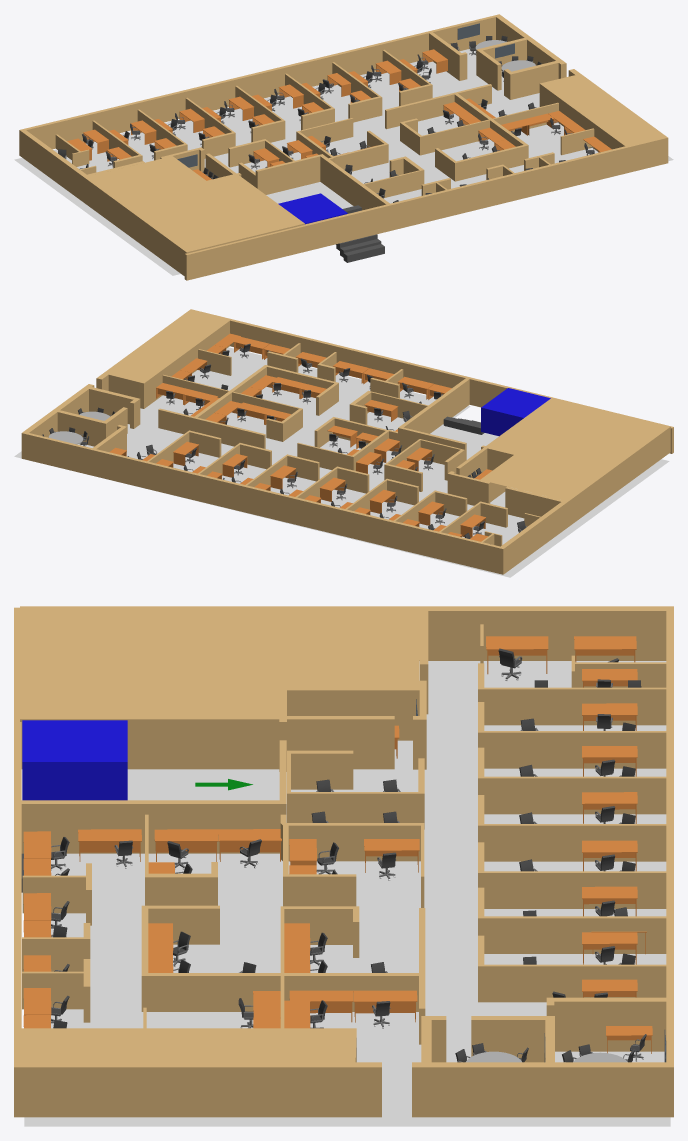
Rendered from second.glb.
3 views of the same model, one above another, from view 1: azimuth 30°, elevation 25°; view 2: azimuth 150°, elevation 25°; view 3: azimuth 270°, elevation 25° (orthographic). The views are drawn at different scales.
Parts seen in each view (by area): view 1: Lift; view 2: Lift; view 3: Lift.
Part boxes in pixels (bbox=[...]): Lift: bbox=[14, 14, 673, 280]; Lift: bbox=[14, 309, 673, 577]; Lift: bbox=[14, 606, 673, 1126].
Bounding box in the file's own units: 40.52 × 3.88 × 23.93.
